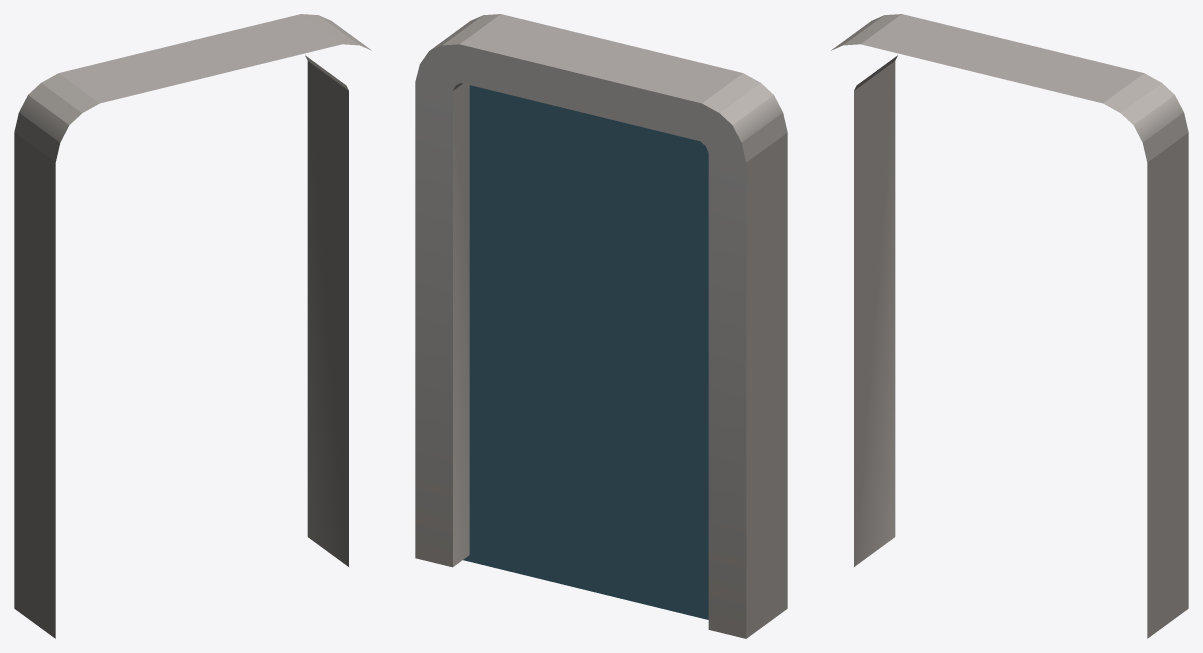
The model's file is CrateCoProxyObjectiveSign.glb.
3 renders of one model, left to right at view 1: azimuth 30°, elevation 25°; view 2: azimuth 150°, elevation 25°; view 3: azimuth 330°, elevation 25°, orthographic.
Visible parts, largest first — view 1: CrateCoProxyObjectiveSign; view 2: CrateCoProxyObjectiveSign; view 3: CrateCoProxyObjectiveSign.
Boxes of the visible parts, <box> form: CrateCoProxyObjectiveSign: <box>14,14,371,638</box>; CrateCoProxyObjectiveSign: <box>415,14,787,638</box>; CrateCoProxyObjectiveSign: <box>831,14,1188,638</box>.
Bounding box in the file's own units: 1.22 × 1.87 × 0.2644.
